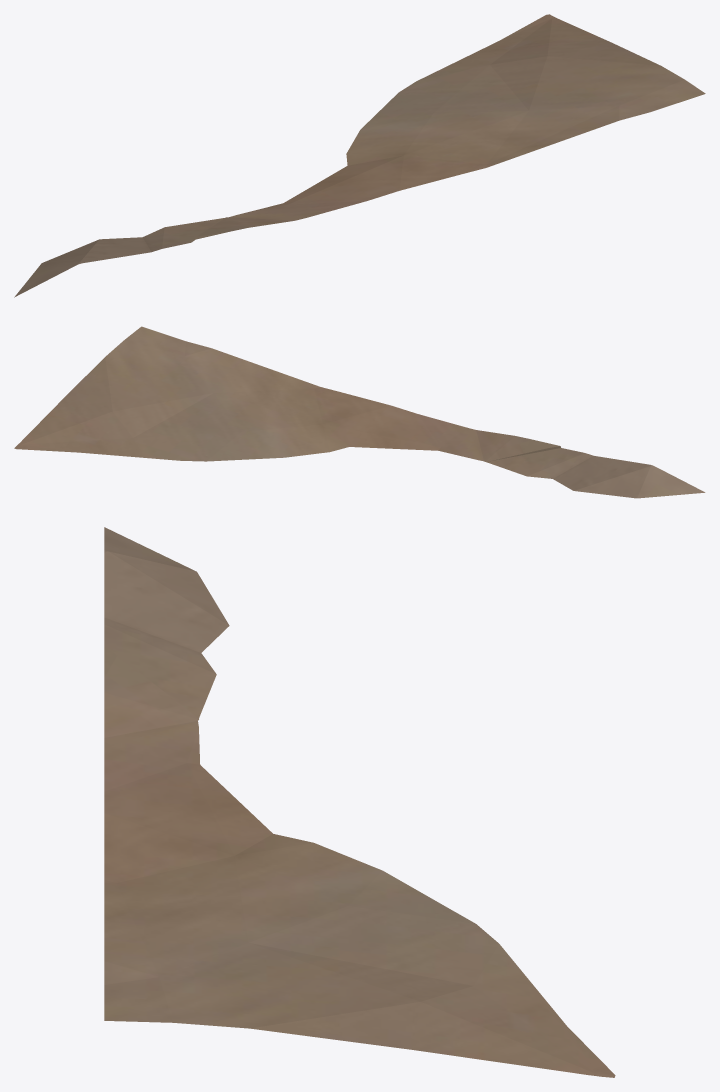
The picture shows the model from 3 angles, top to bottom: view 1: azimuth 30°, elevation 25°; view 2: azimuth 150°, elevation 25°; view 3: azimuth 270°, elevation 25°; orthographic projection. The views are drawn at different scales.
Size of the model in its own units: 1.73 by 0.0834 by 0.6776.
Materials: 1 (1 with a texture image).
